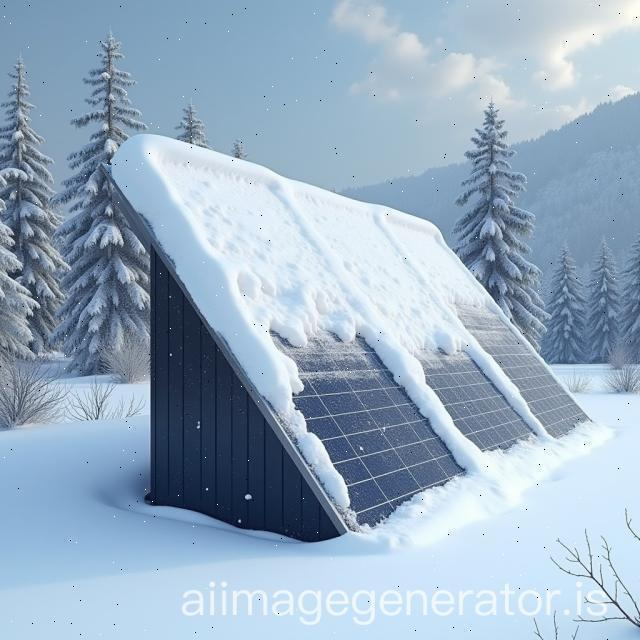Anomaly Solar Panel: (143, 143, 493, 536), (275, 174, 562, 488), (371, 203, 605, 456)
Snow: (141, 146, 400, 402), (274, 178, 475, 353), (353, 417, 608, 538), (381, 360, 500, 478), (375, 206, 500, 317), (466, 337, 554, 440), (560, 419, 596, 452)
